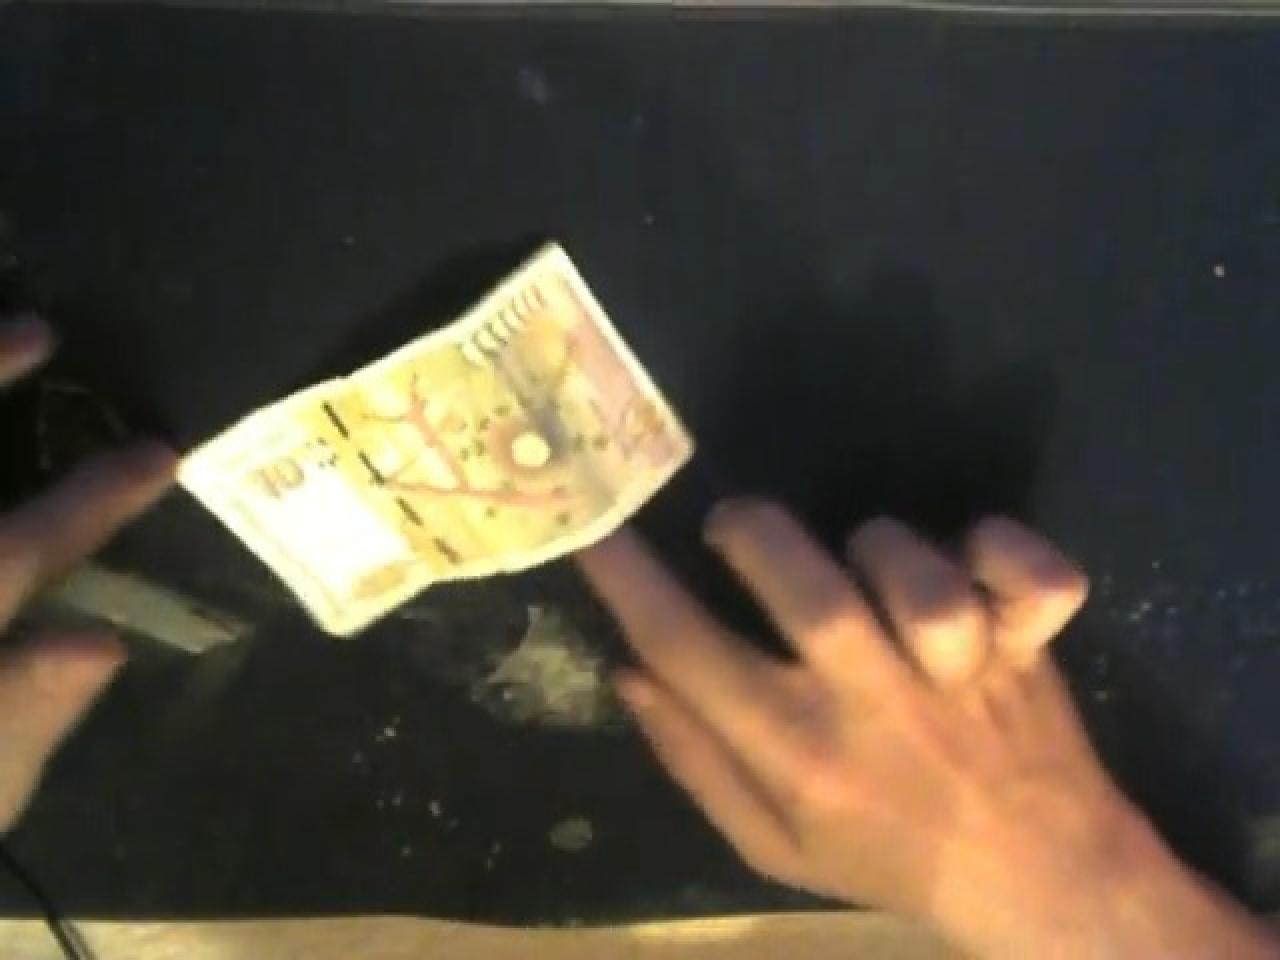10leva: (174, 237, 696, 634)
